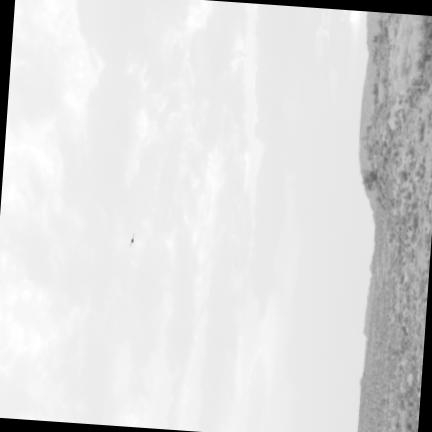Shahed: (128, 230, 135, 247)
